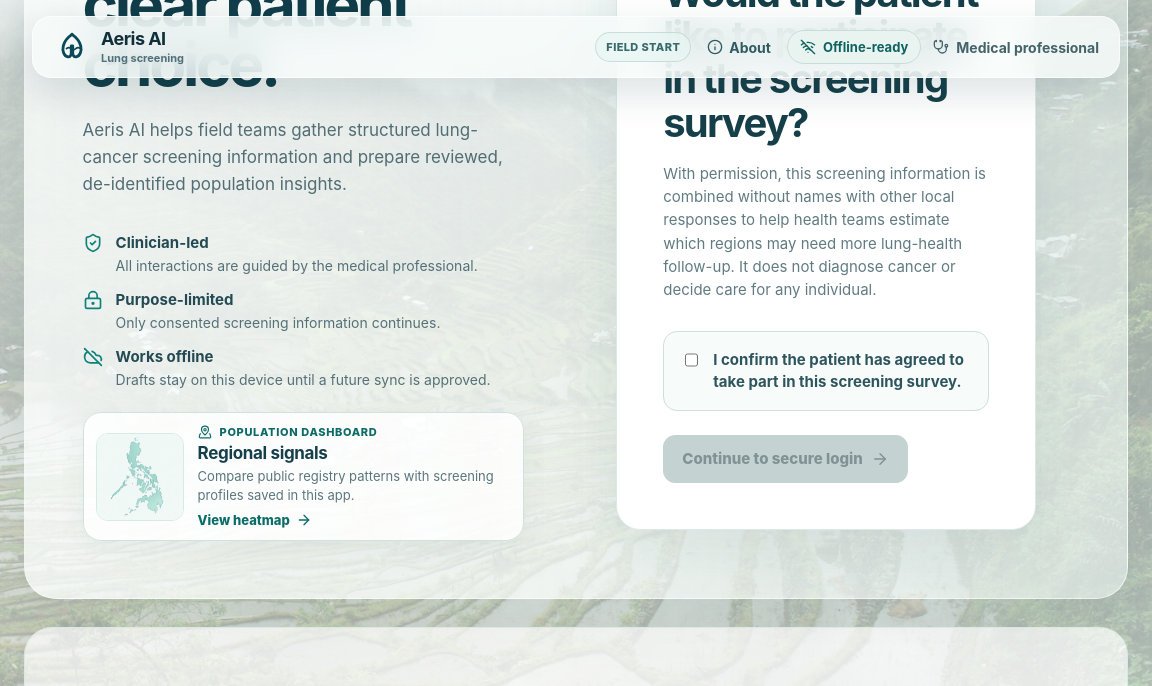
Test: TASK-001 consent and demo login › opens imaging metadata as a future-feature notice from the clinician workspace
The image size is (1152, 686).
Click the checkbox at (692, 360), box 685,350 -> 698,370
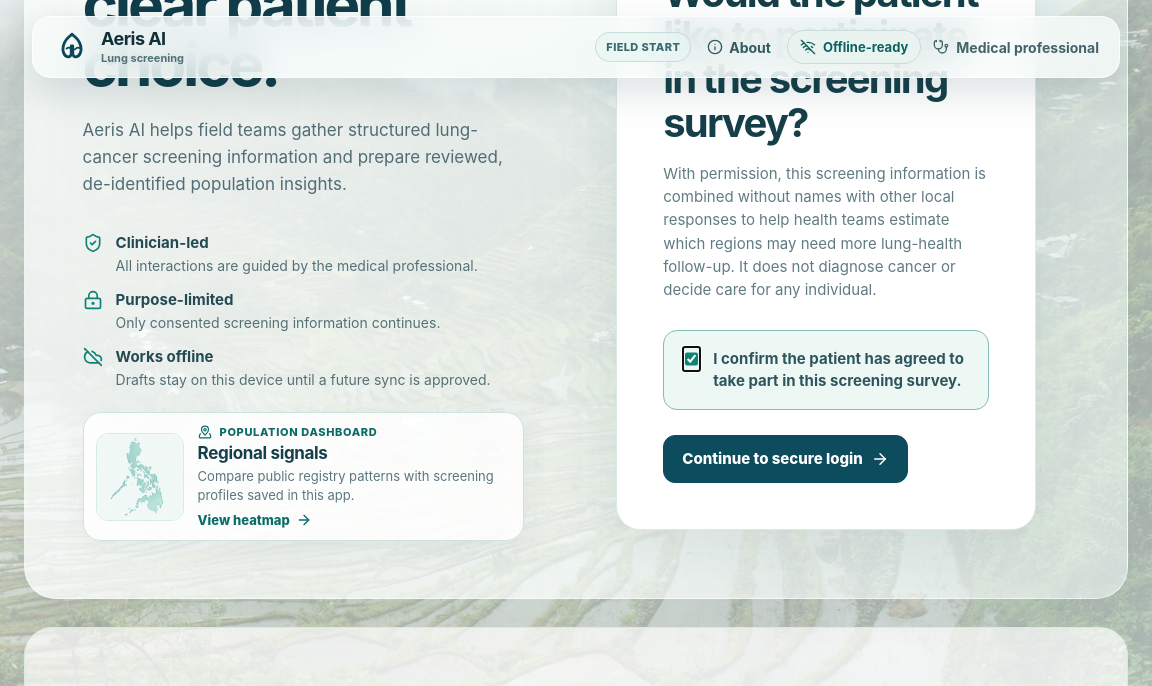
Click the button "Continue to secure login" at (786, 459), box 663,435 -> 908,483
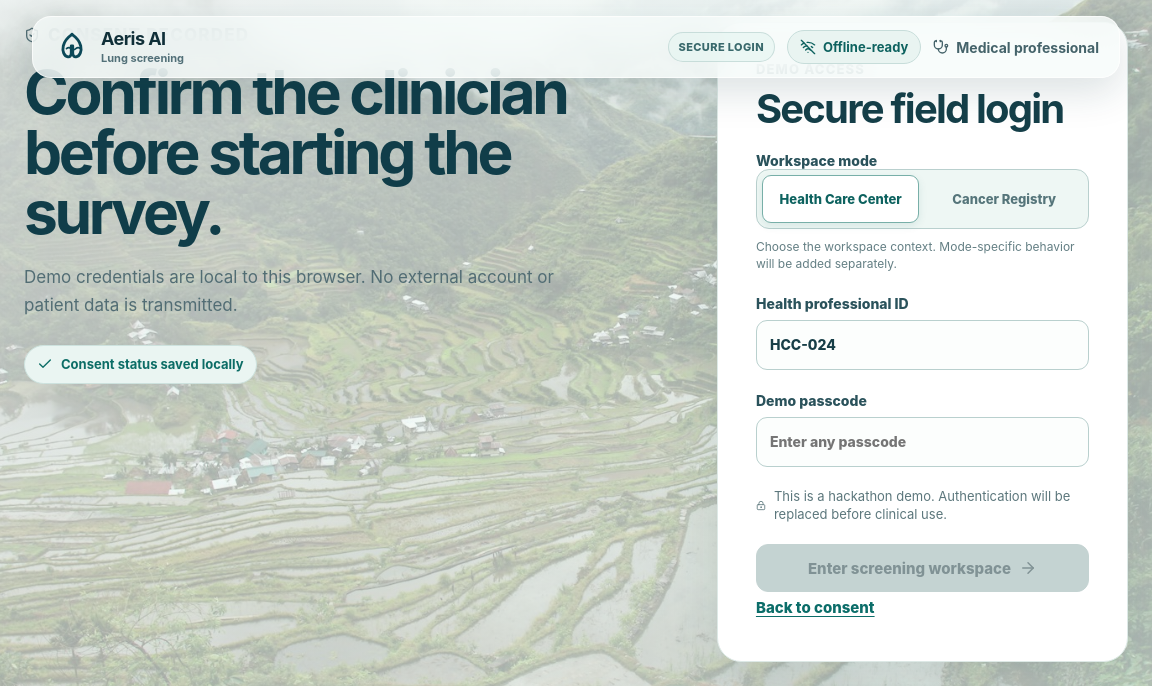
Type "1234" into the password field labelled "Demo passcode" at (922, 442), box 756,417 -> 1089,467
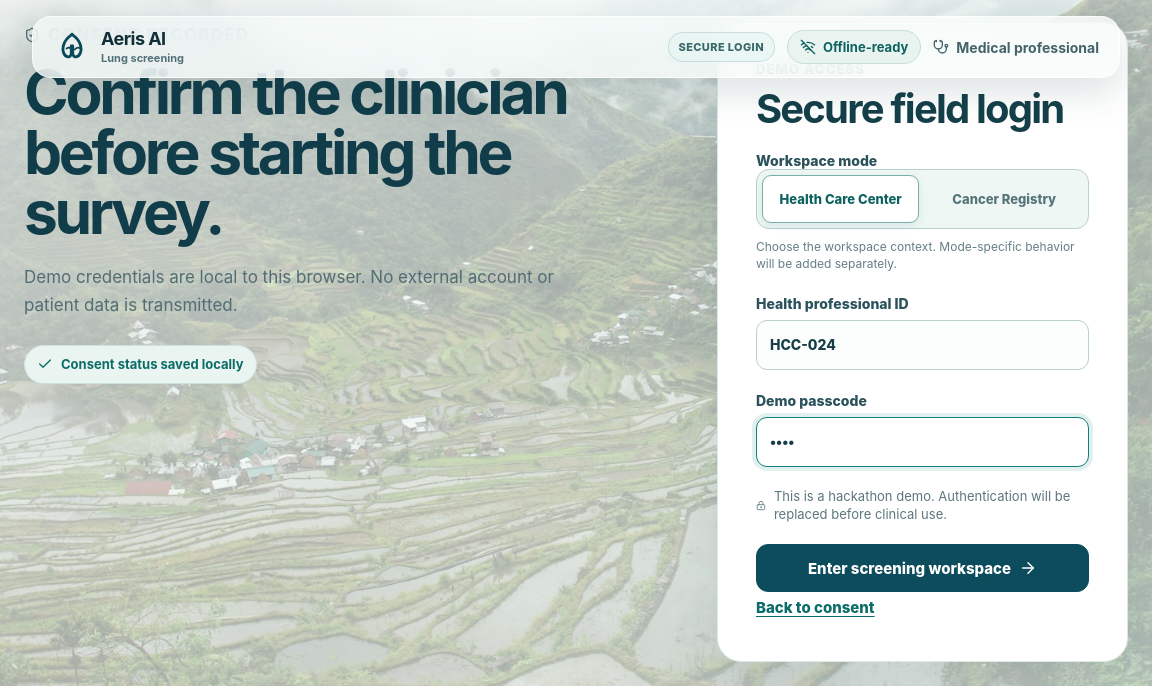
Click the button "Enter screening workspace" at (922, 568), box 756,544 -> 1089,592
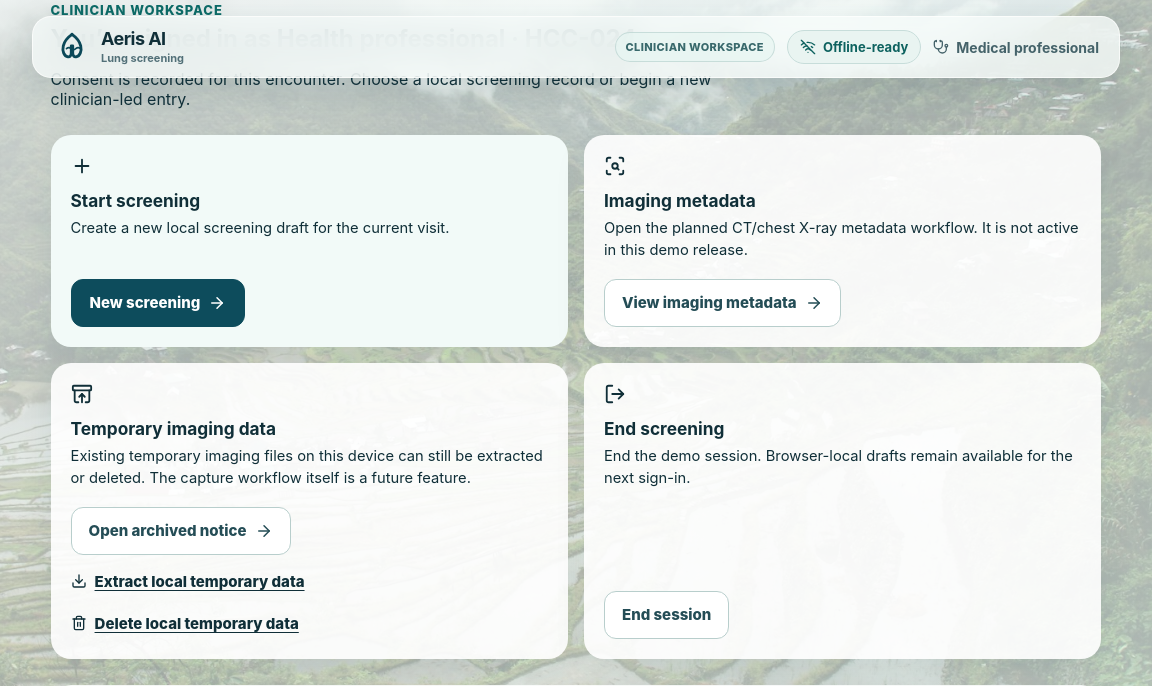
Click the button "View imaging metadata" at (722, 303), box 604,279 -> 841,327
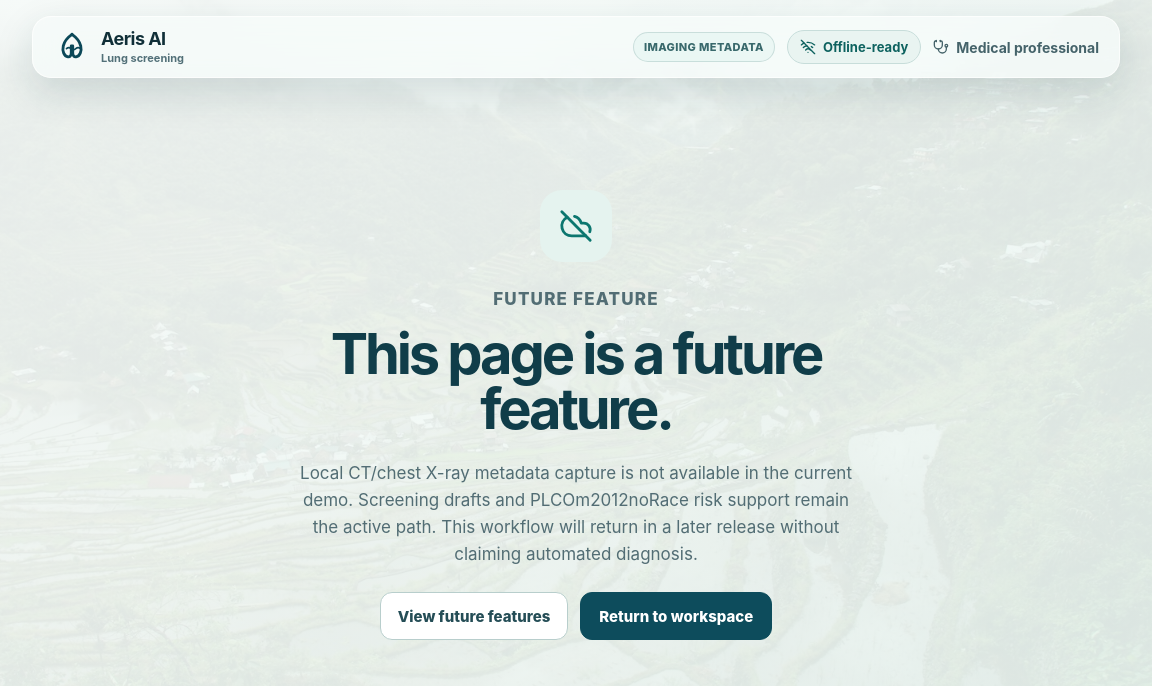
Expected: the heading "This page is a future feature." is shown, 331,320 -> 821,443
Expected: the text "CT/chest X-ray metadata capture is not available" is shown, 300,463 -> 852,564
Click the button "Return to workspace" at (676, 616), box 580,592 -> 772,640
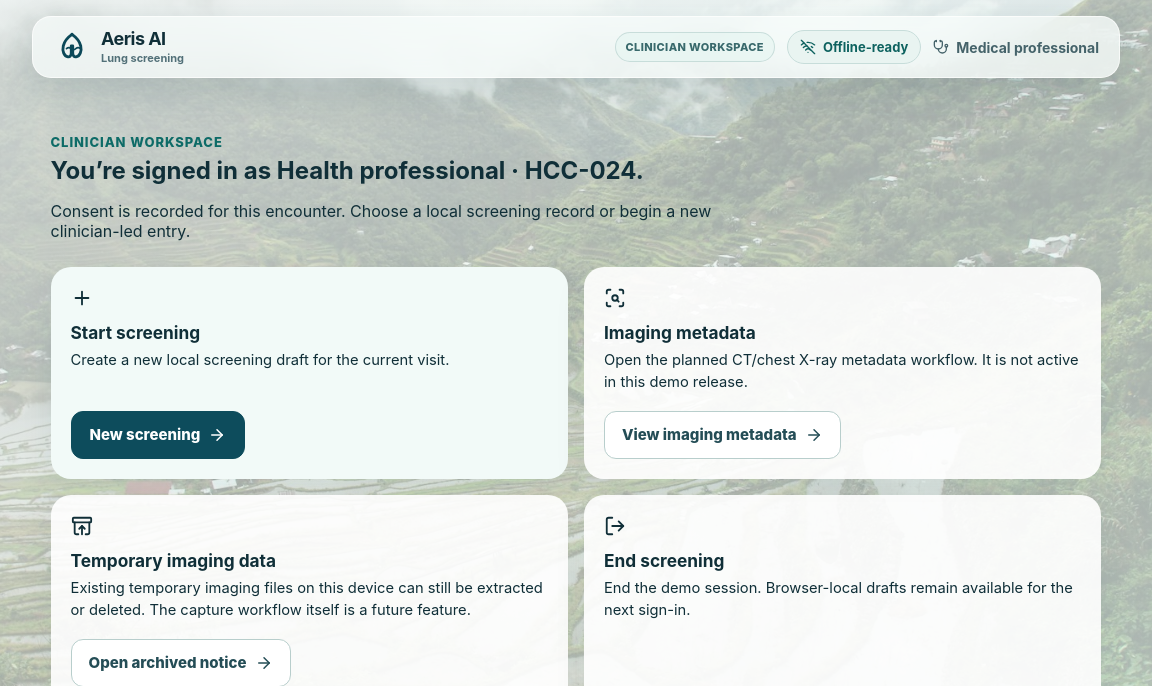
Expected: the button "View imaging metadata" is shown, 604,411 -> 841,459
